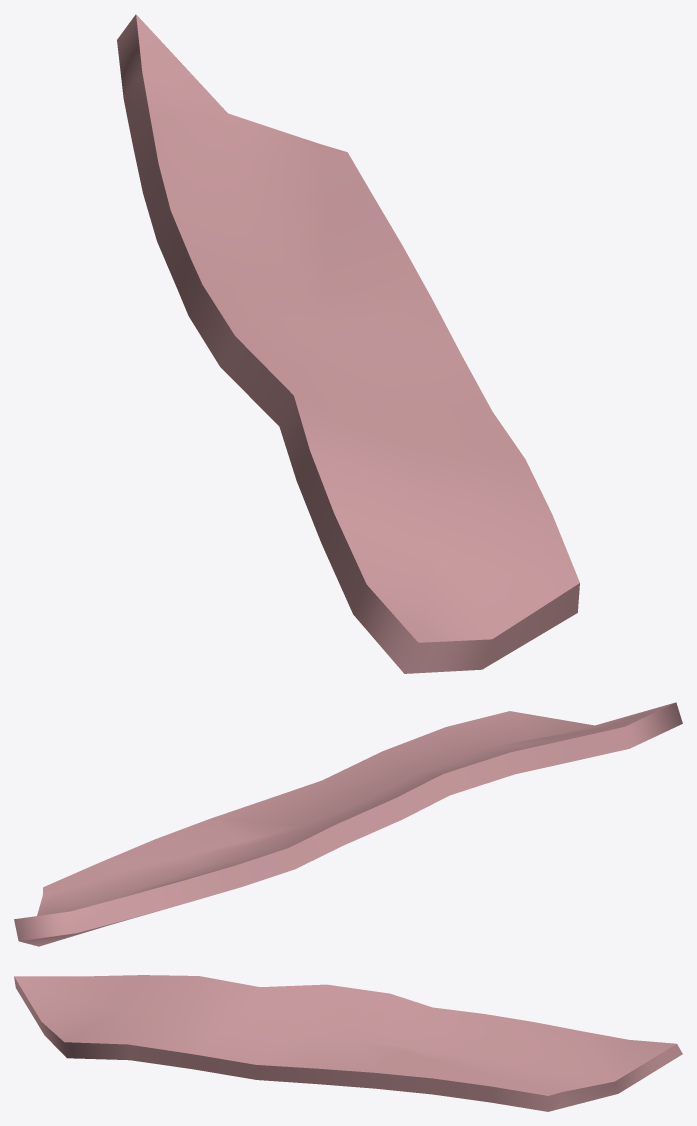
3 renders of one model, top to bottom at view 1: azimuth 30°, elevation 25°; view 2: azimuth 150°, elevation 25°; view 3: azimuth 270°, elevation 25°, orthographic. The views are drawn at different scales.
Parts seen in each view (by area): view 1: ZA_99cd1ada991a9ea9; view 2: ZA_99cd1ada991a9ea9; view 3: ZA_99cd1ada991a9ea9.
Part boxes in pixels (x1,y1,x2,y2): ZA_99cd1ada991a9ea9: [117, 14, 579, 673]; ZA_99cd1ada991a9ea9: [14, 702, 682, 946]; ZA_99cd1ada991a9ea9: [14, 975, 682, 1111].
Size of the model in its own units: 0.0462 by 0.0114 by 0.1126.
